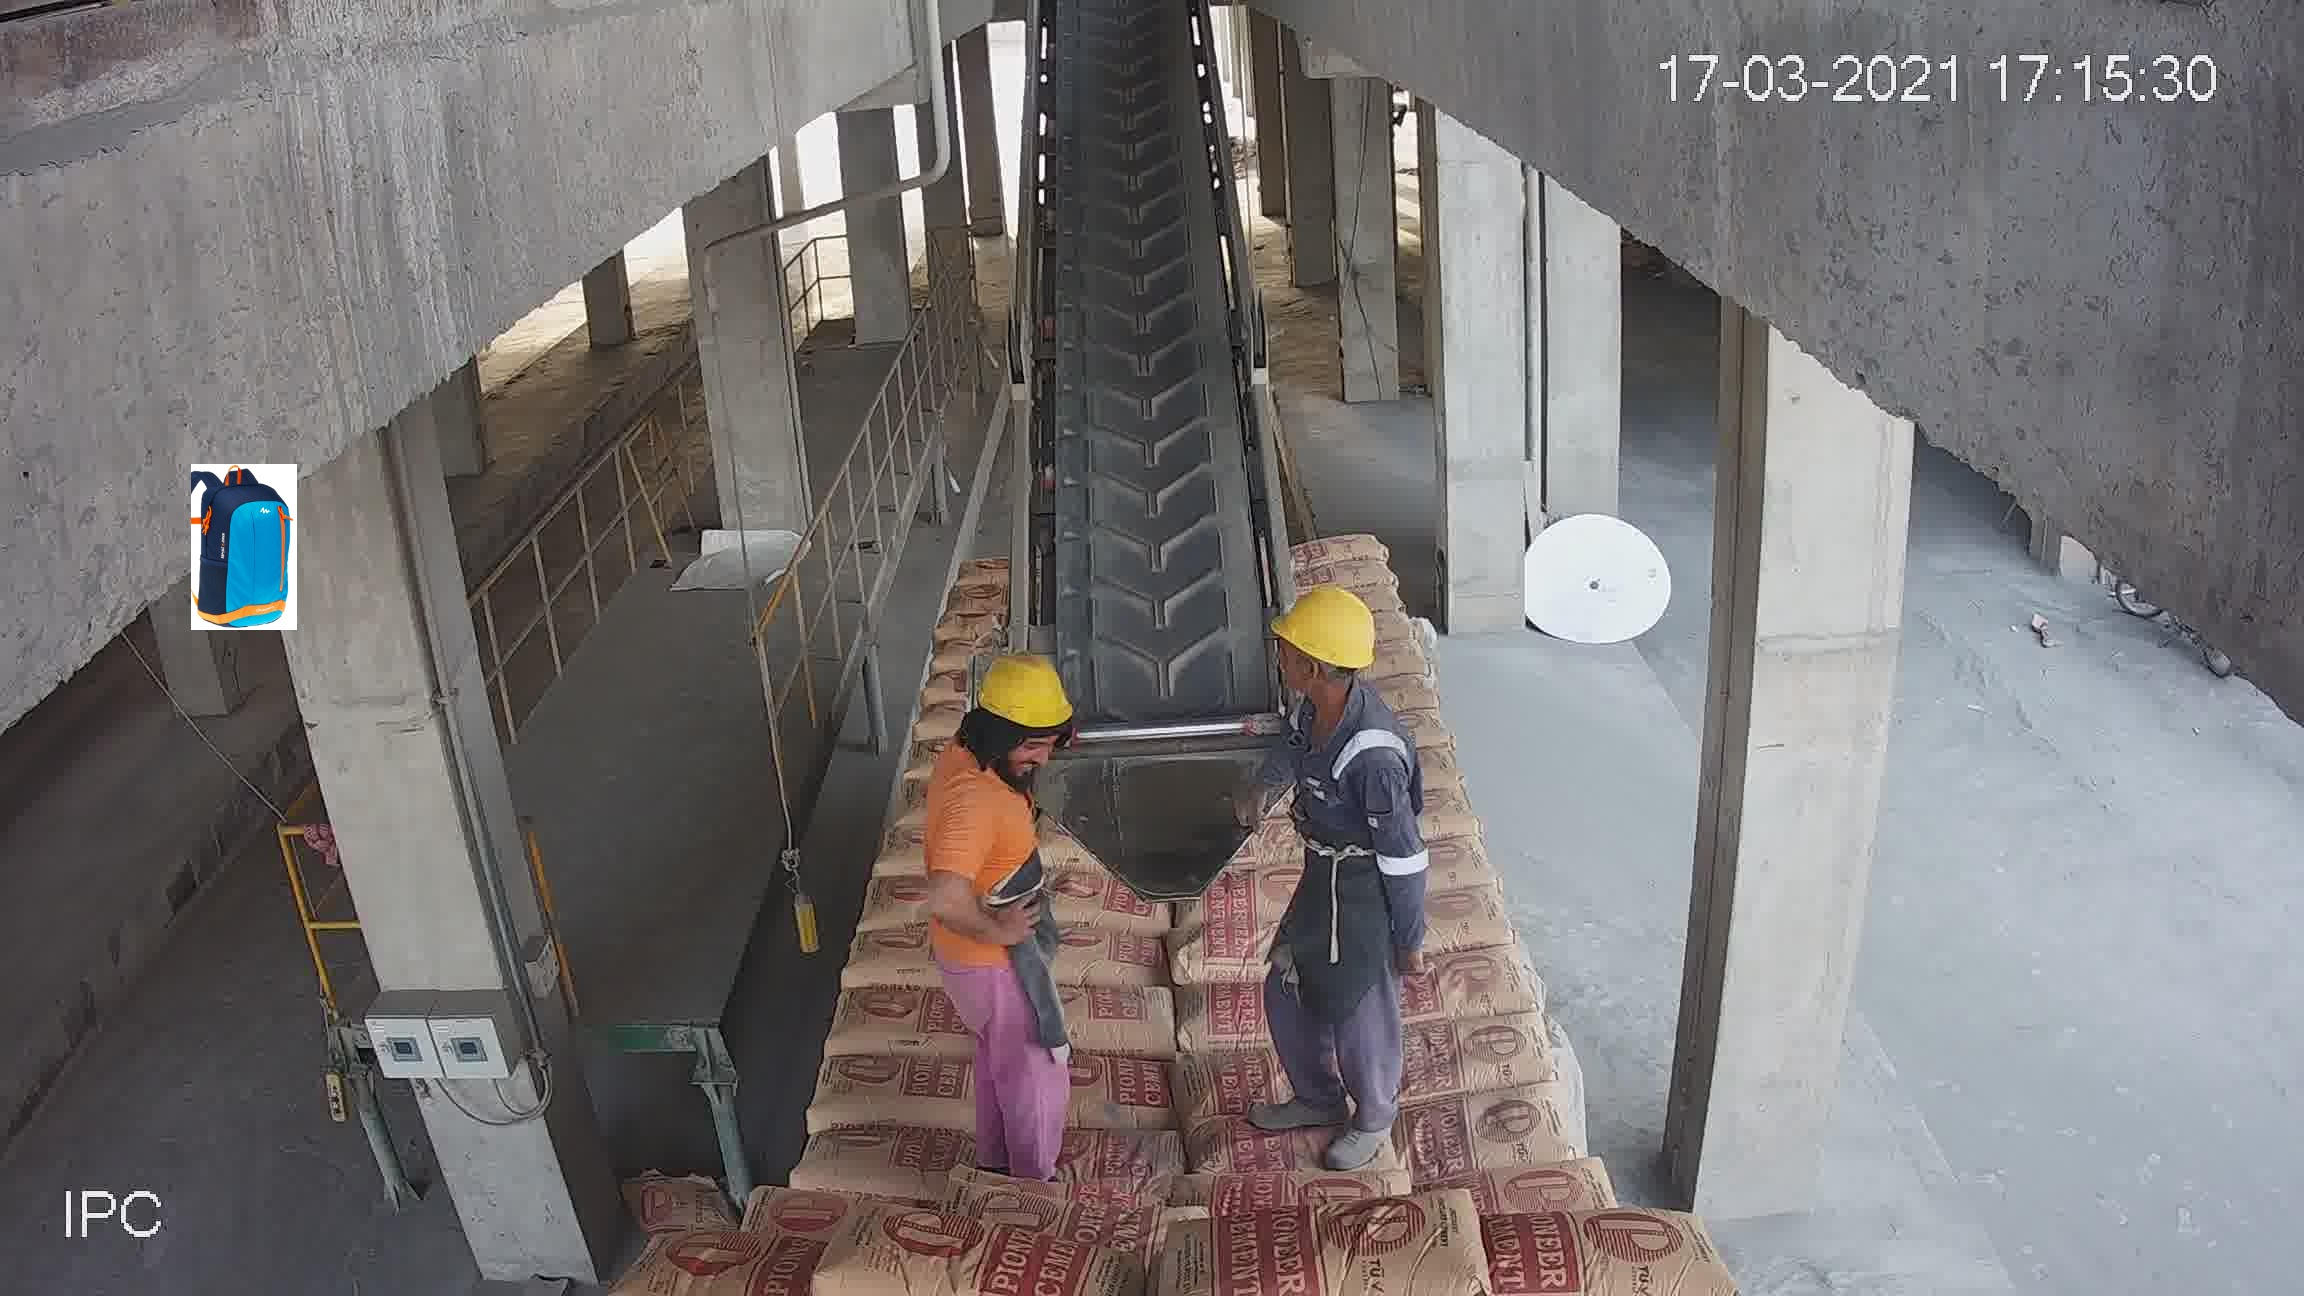bag_h: (807, 1222, 1108, 1294), (1407, 1076, 1601, 1176), (798, 1046, 994, 1135), (1185, 1098, 1396, 1177), (628, 1225, 837, 1293), (1381, 1014, 1571, 1089), (1381, 953, 1548, 1033), (964, 1120, 1146, 1184), (788, 1131, 957, 1196), (1051, 991, 1207, 1059), (1062, 1051, 1207, 1124), (1036, 927, 1188, 994), (1442, 1139, 1605, 1198), (831, 991, 964, 1062), (1195, 864, 1288, 938), (842, 930, 942, 997), (1427, 888, 1510, 951), (1176, 934, 1277, 984), (855, 873, 934, 927), (1301, 562, 1396, 597), (1290, 533, 1393, 563)
belt: (1017, 95, 1279, 782)
